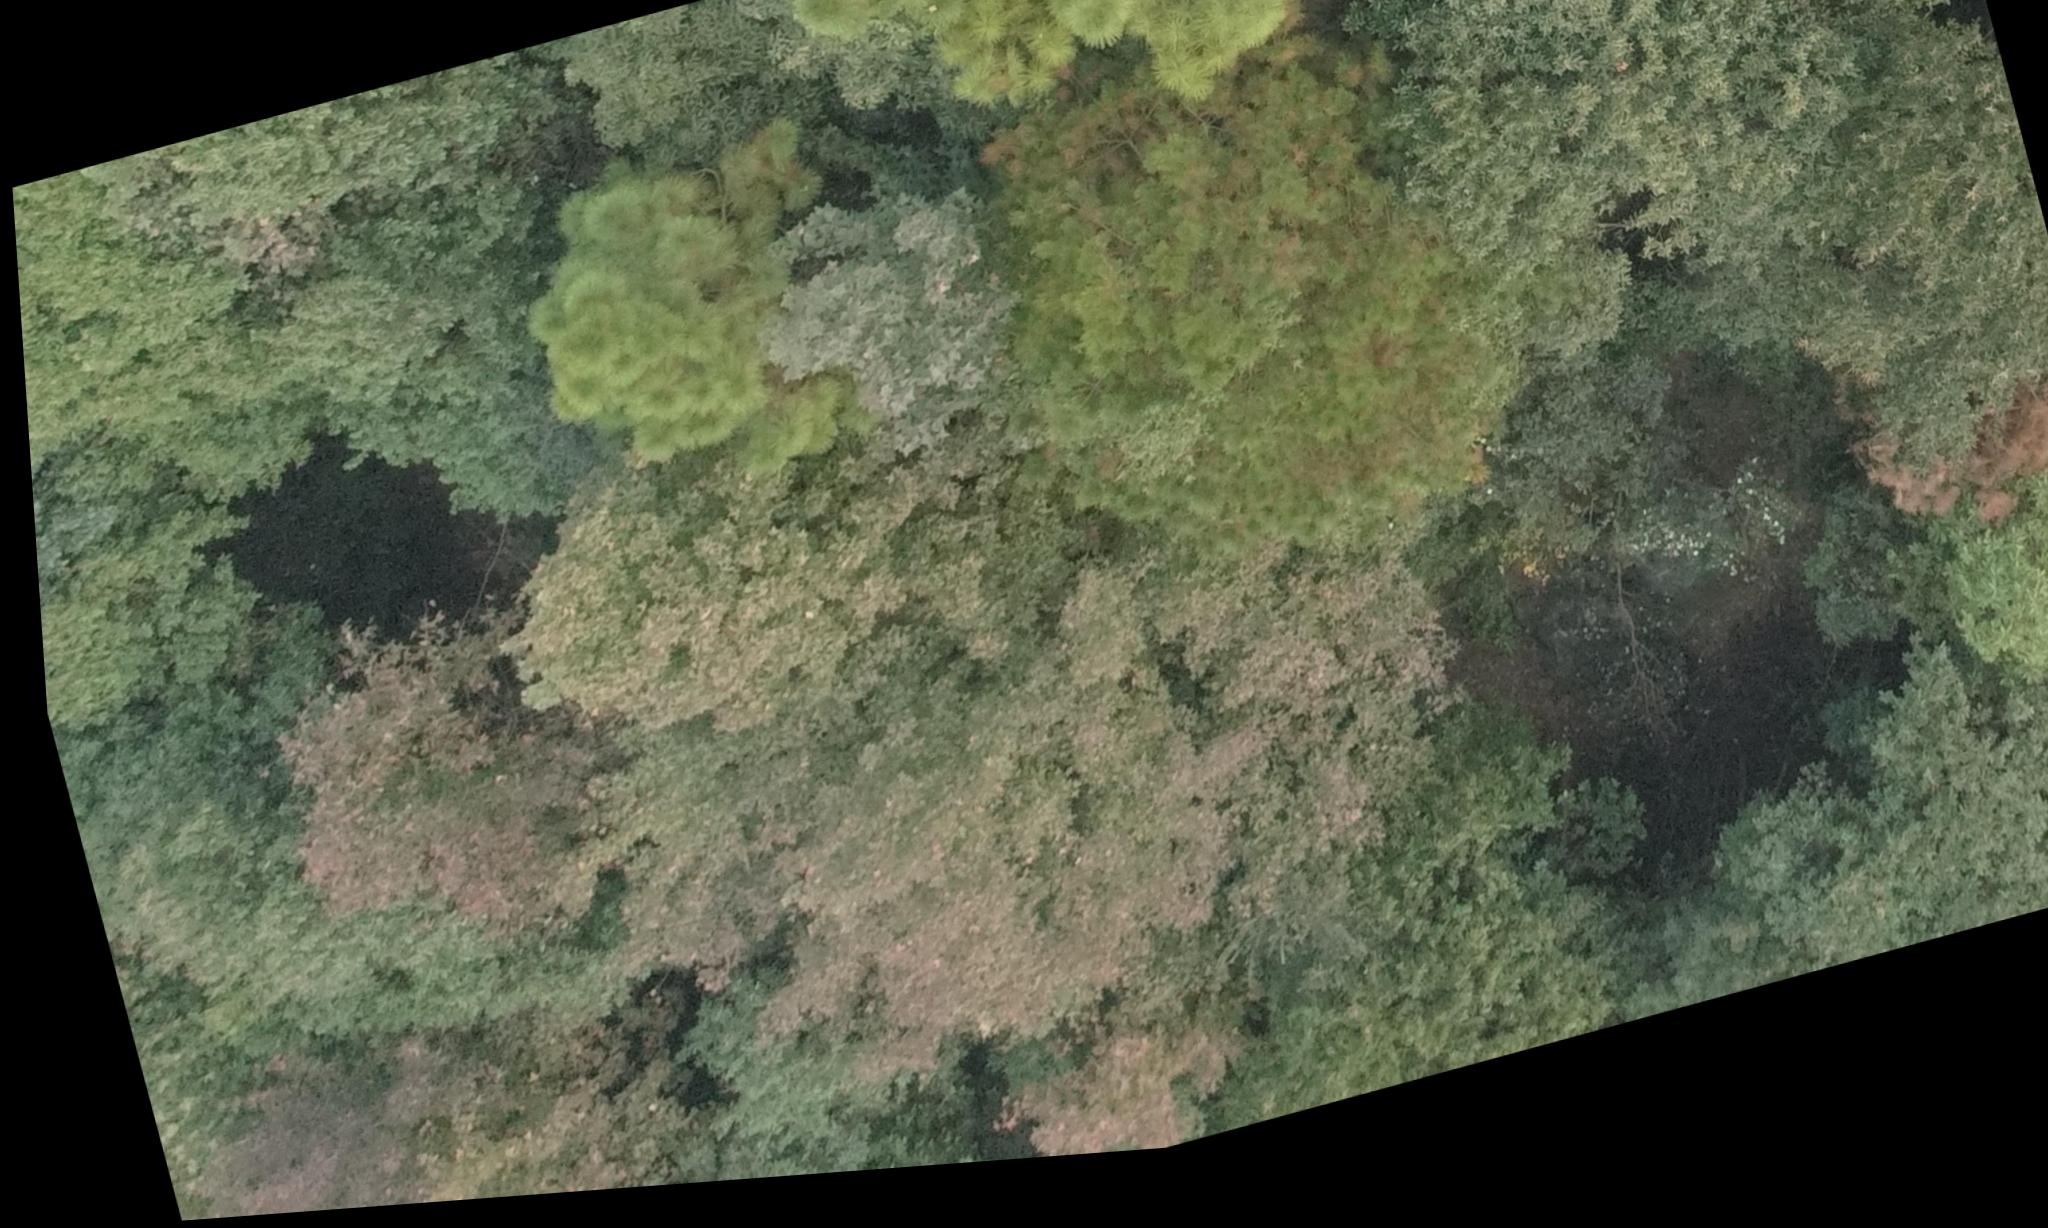heavy: (1846, 399, 2048, 582)
light: (1004, 73, 1500, 589), (1145, 0, 1340, 105)
